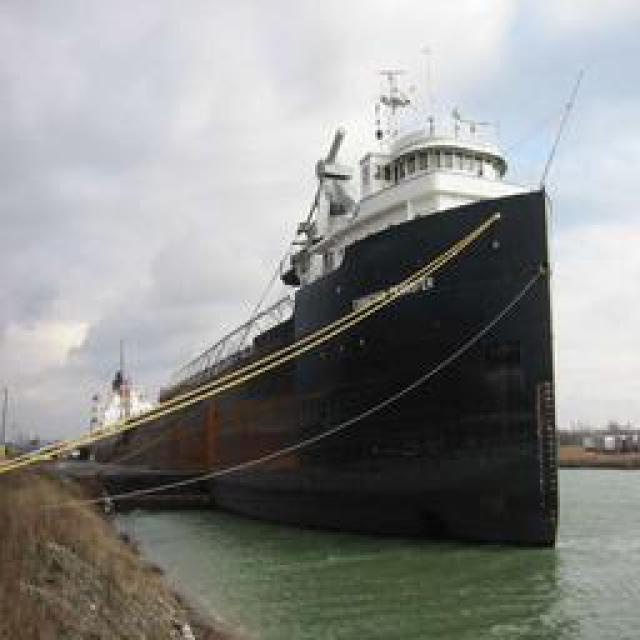Ship: (64, 96, 559, 539)
